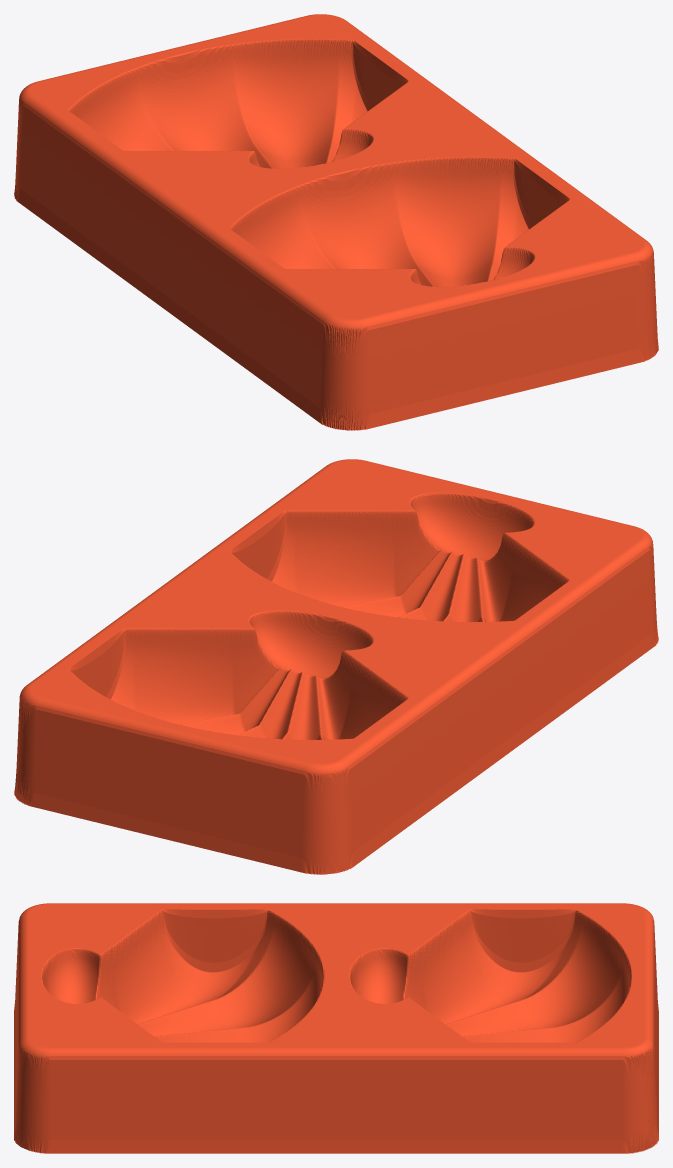
The model's file is mold.glb.
The picture shows the model from 3 angles, top to bottom: view 1: azimuth 30°, elevation 25°; view 2: azimuth 150°, elevation 25°; view 3: azimuth 270°, elevation 25°; orthographic projection. The views are drawn at different scales.
Visible parts, largest first — view 1: geometry_0; view 2: geometry_0; view 3: geometry_0.
Part boxes in pixels (left/top/right/bottom): geometry_0: left=14, top=14, right=658, bottom=430; geometry_0: left=14, top=459, right=658, bottom=874; geometry_0: left=14, top=903, right=658, bottom=1153.
Bounding box in the file's own units: 0.0917 × 0.0274 × 0.1603.
